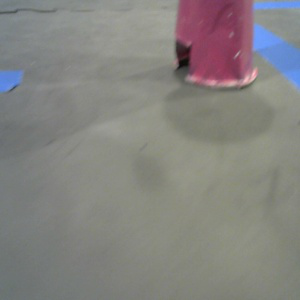right: (172, 1, 260, 88)
